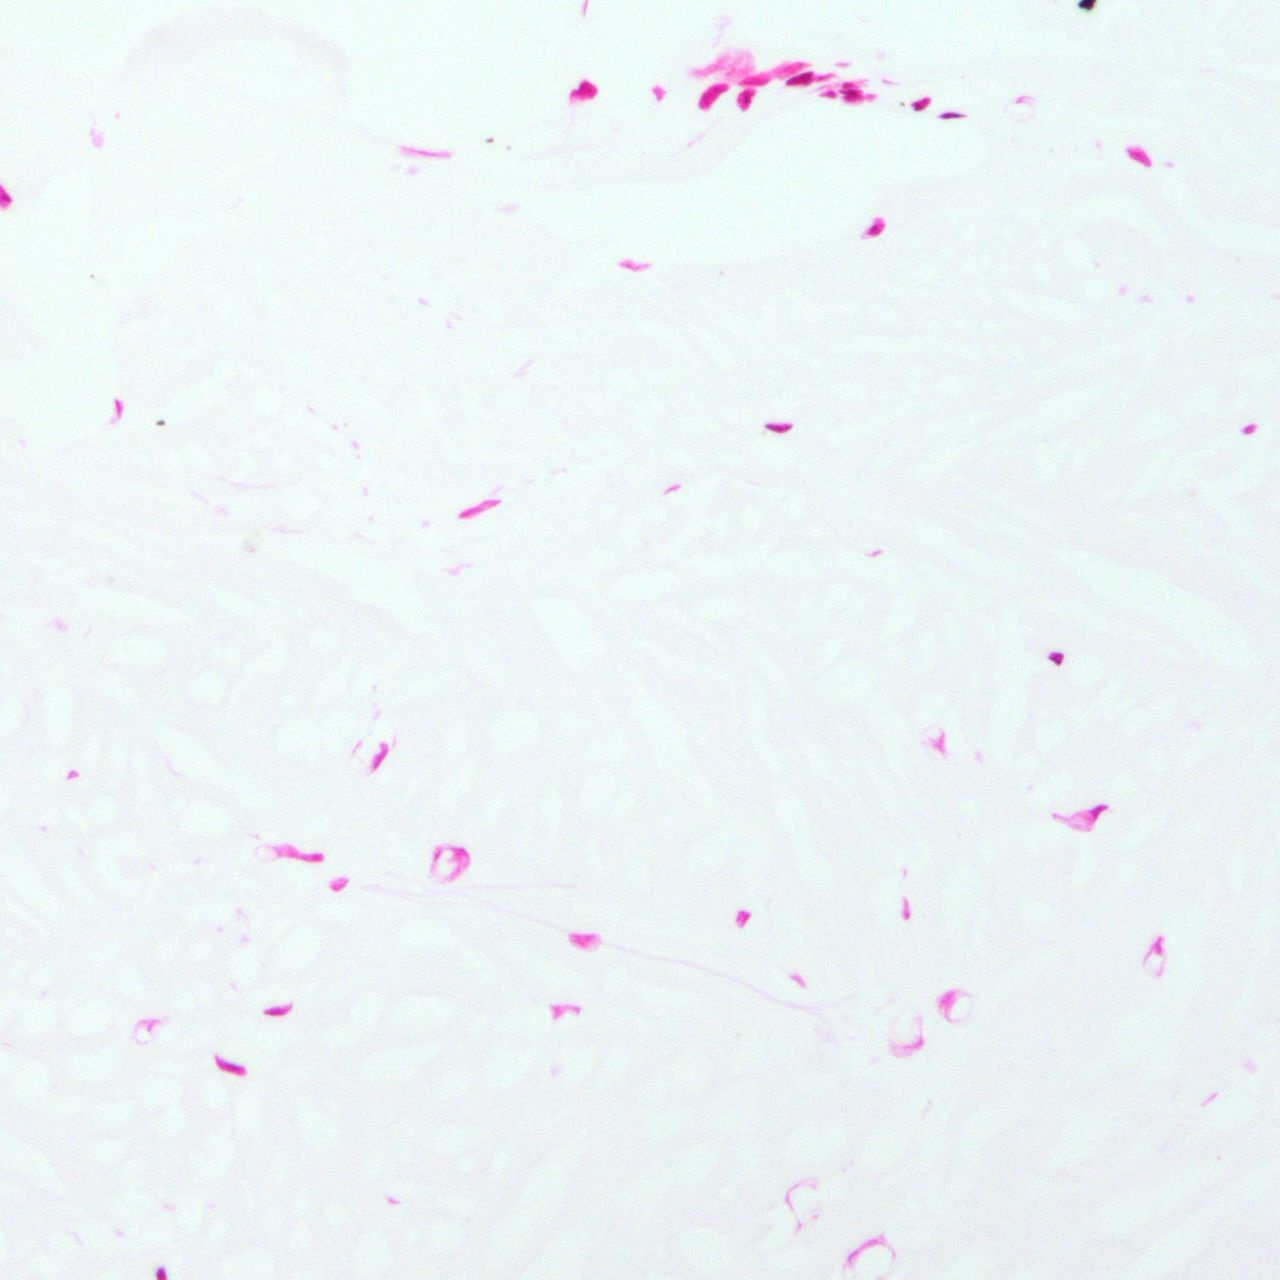dust: (155, 420, 164, 425)
nucleus-FG: (457, 490, 505, 523), (1051, 804, 1110, 830), (210, 1053, 247, 1078), (785, 69, 817, 91), (864, 215, 888, 240), (733, 84, 755, 113), (1240, 420, 1260, 437), (842, 88, 864, 101), (264, 1003, 291, 1014), (735, 910, 750, 927), (765, 423, 792, 433), (913, 96, 928, 111), (1049, 653, 1063, 665), (940, 113, 964, 118), (156, 1267, 166, 1280), (903, 900, 910, 919)
